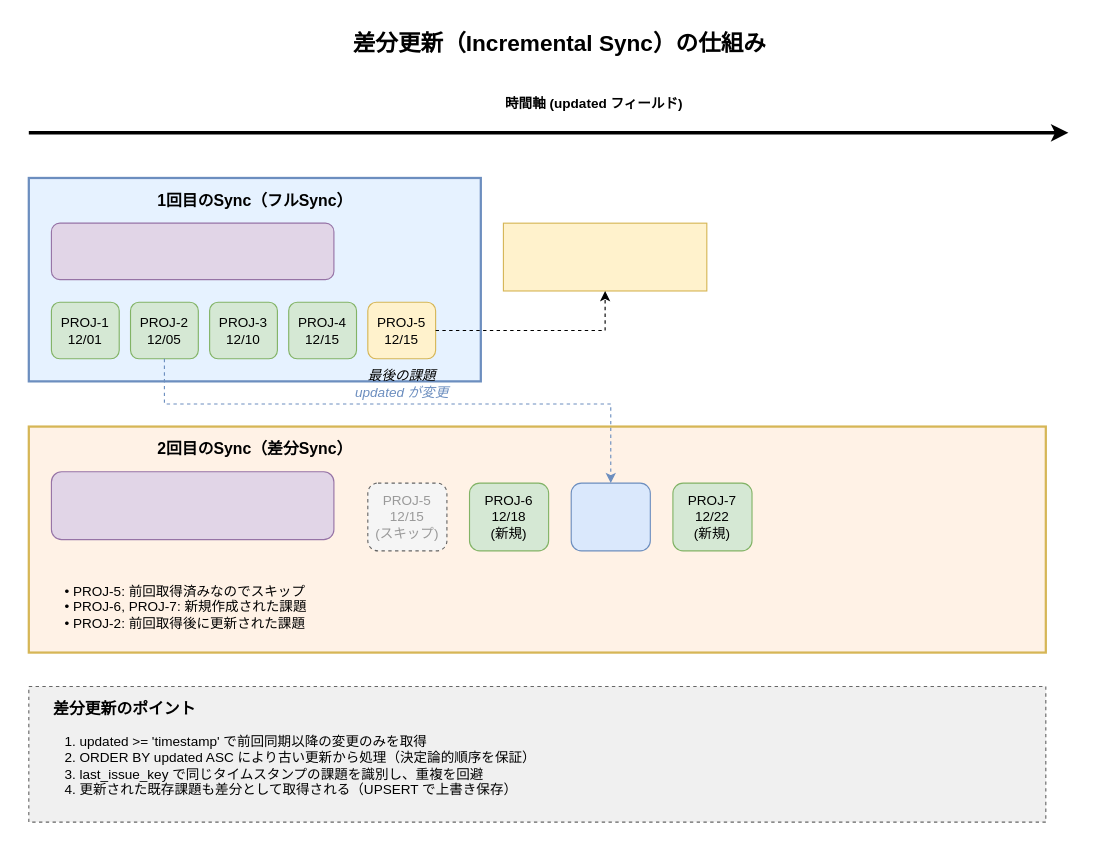
The diagram is 1098 pixels wide and 842 high, and some of its shapes have lost their labels. The box of each missing label's shape, as (x1, y1, x2, y2) in pixels:
JQL: project = PROJ AND updated >= '2024-12-15' ORDER BY updated ASC, key ASC: (50, 471, 334, 540)
JQL: project = PROJ ORDER BY updated ASC, key ASC: (50, 222, 334, 280)
PROJ-2 12/20 (更新): (570, 482, 650, 551)
チェックポイント保存: last_updated_at: 12/15 last_issue_key: PROJ-5: (502, 222, 707, 291)
